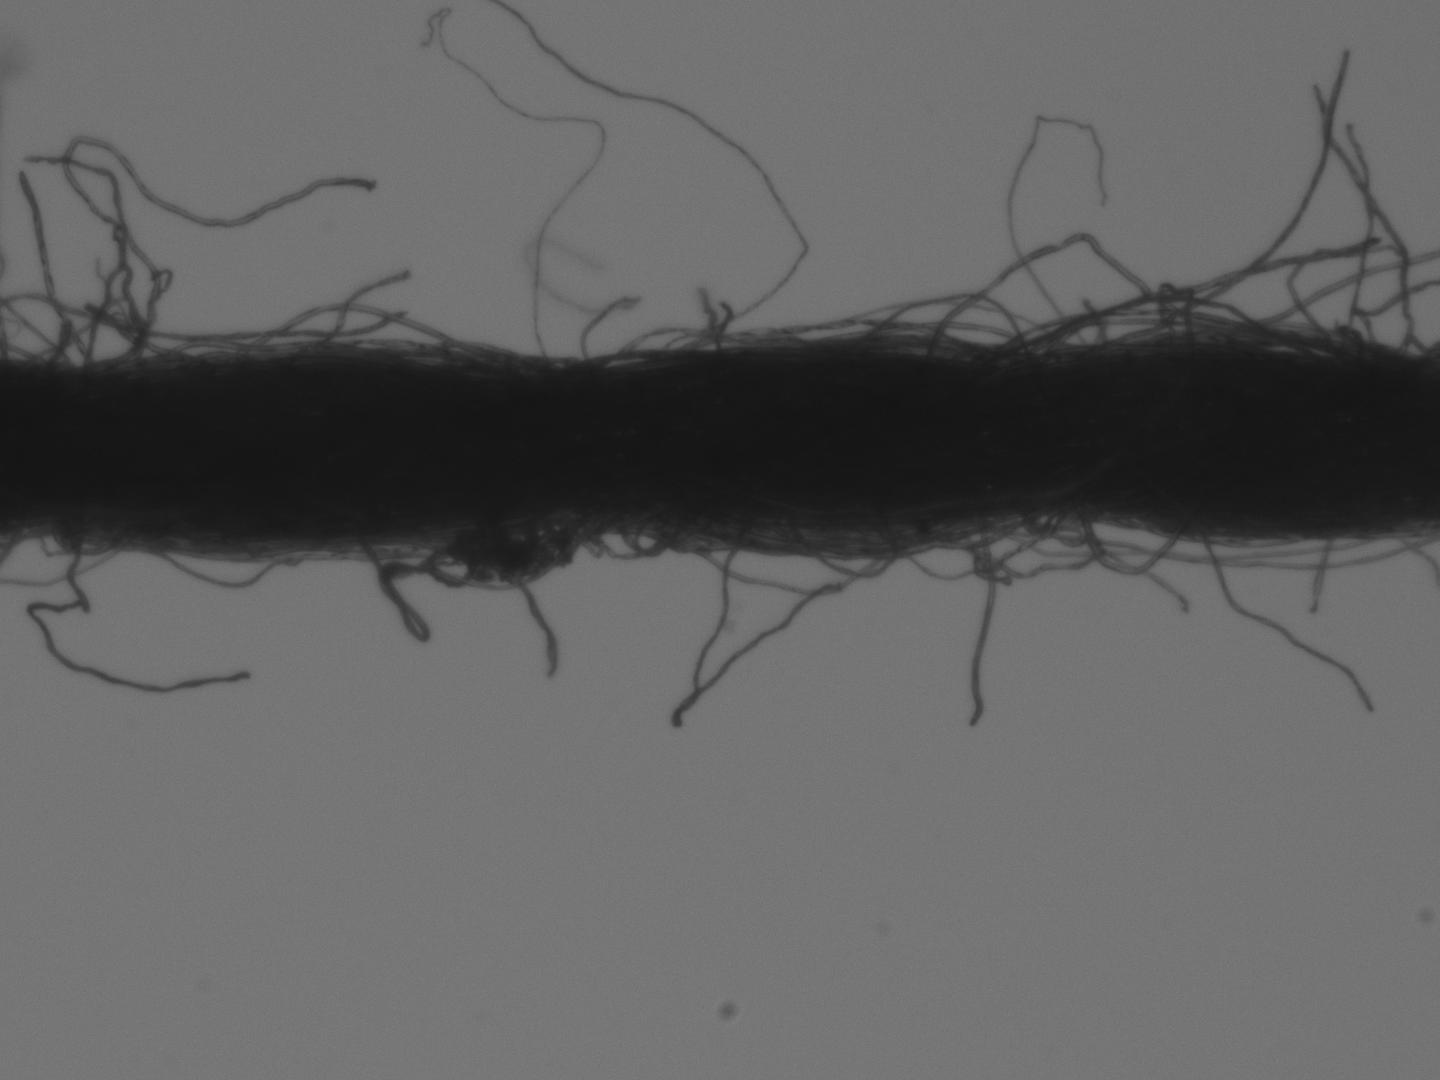loop_fiber: (929, 231, 1310, 357), (356, 517, 578, 643), (1033, 507, 1426, 572), (684, 522, 884, 597), (246, 301, 468, 364), (895, 503, 1060, 580), (854, 293, 1020, 364), (731, 318, 967, 356), (1006, 317, 1235, 355), (893, 505, 1045, 550), (1079, 504, 1178, 572), (152, 546, 300, 589), (787, 521, 891, 581), (613, 323, 734, 363), (583, 516, 669, 559), (617, 520, 684, 557), (169, 334, 249, 364), (52, 535, 116, 557)
protruding_fiber: (1102, 45, 1356, 358), (62, 130, 376, 373), (23, 541, 249, 698), (1197, 532, 1378, 712), (12, 163, 84, 365), (960, 525, 997, 731), (517, 567, 558, 677)
